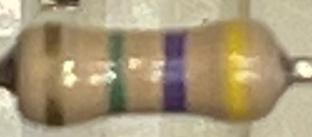Blue: (163, 25, 191, 113)
Green: (104, 27, 128, 111)
Side-Gold: (44, 18, 67, 126)
Yellow: (222, 19, 259, 124)
